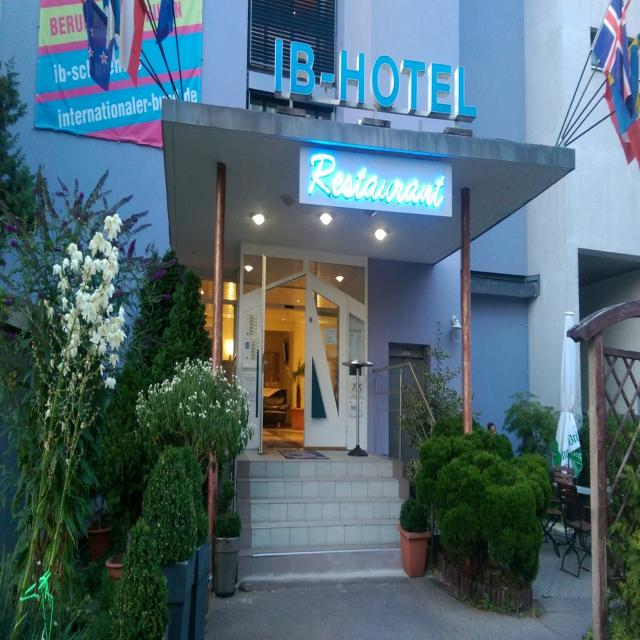AVOID: (231, 457, 407, 558)
